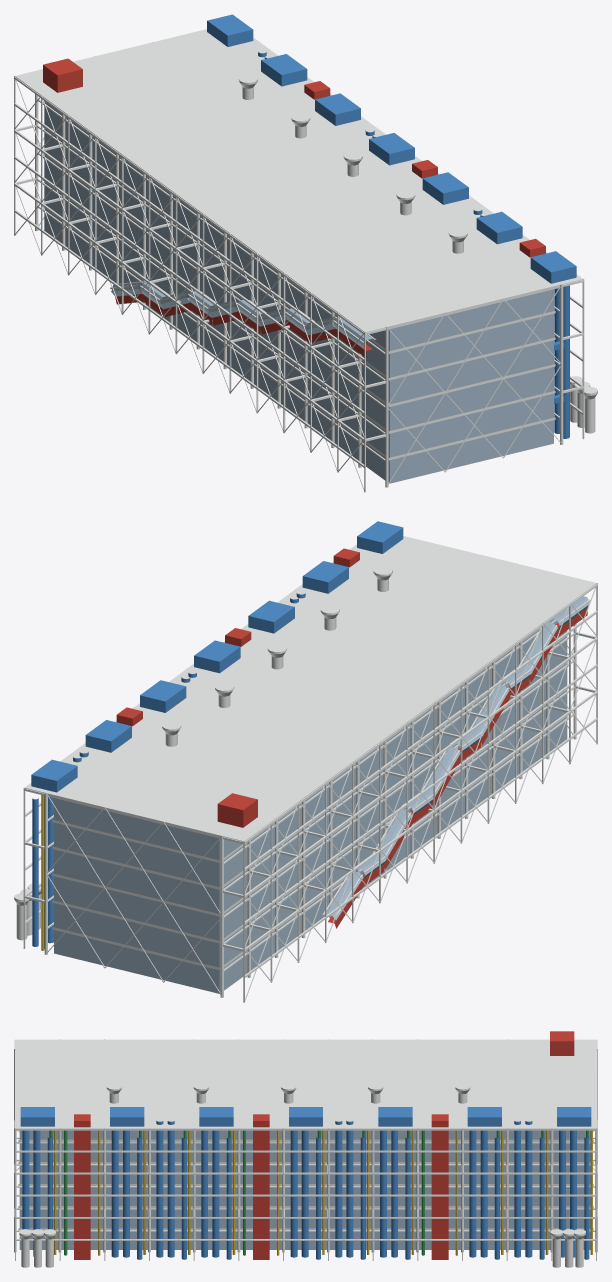
Rendered from paris-centre-pompidou.glb.
3 views of the same model, one above another, from view 1: azimuth 30°, elevation 25°; view 2: azimuth 150°, elevation 25°; view 3: azimuth 270°, elevation 25° (orthographic). The views are drawn at different scales.
Parts seen in each view (by area): view 1: Centre Pompidou; view 2: Centre Pompidou; view 3: Centre Pompidou.
Boxes of the visible parts, left/top/right/bottom form: Centre Pompidou: left=14, top=14, right=597, bottom=492; Centre Pompidou: left=14, top=521, right=597, bottom=1002; Centre Pompidou: left=14, top=1031, right=597, bottom=1267.
Bounding box in the file's own units: 65.63 × 46.9 × 168.
